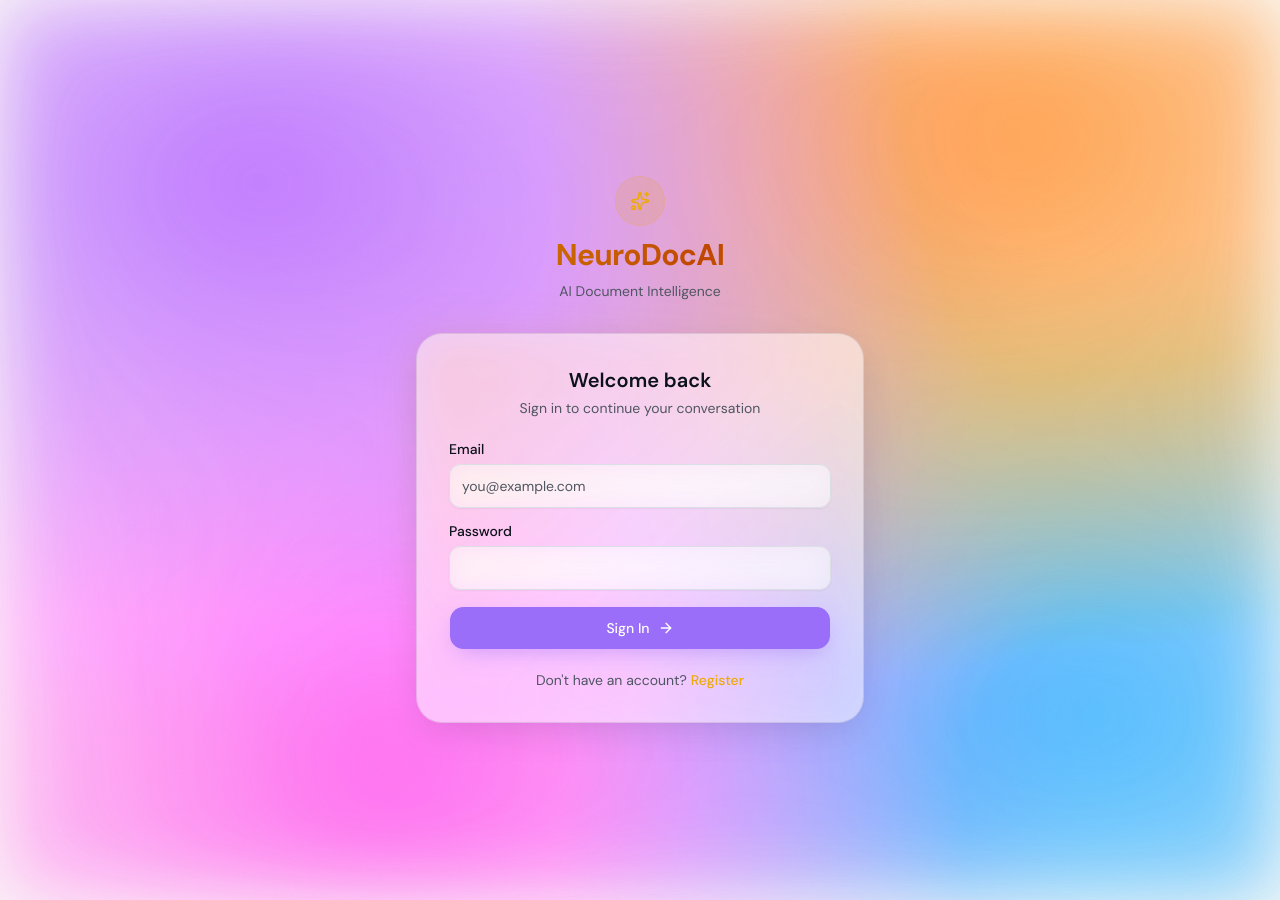
LoginPage › shows loading state during submission
The image size is (1280, 900).
Step 1. Type "test@example.com" into the field labelled "Email" → (640, 486), box [449,464,831,508]
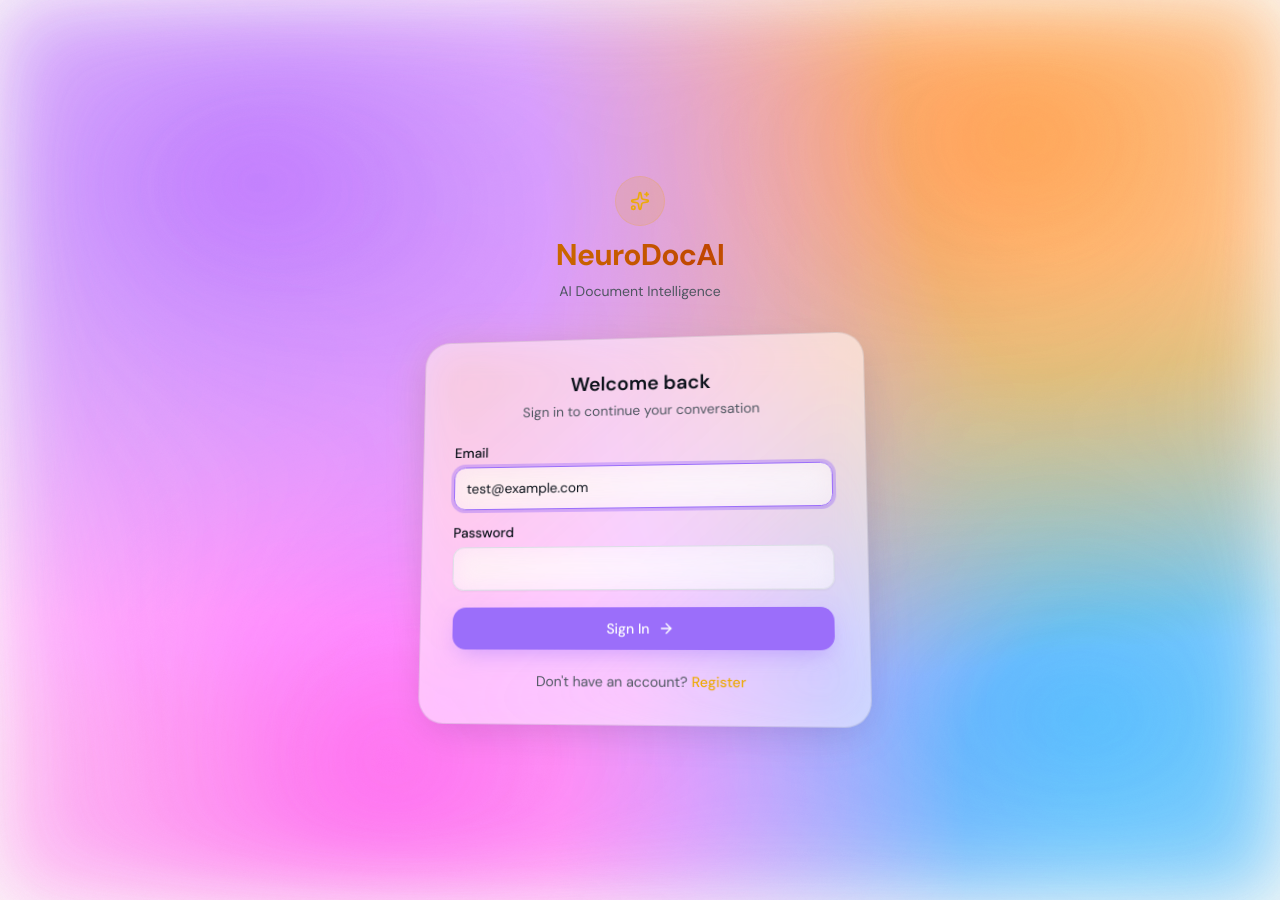
Step 2. Type "password123" into the password field labelled "Password" → (644, 568), box [452,544,835,591]
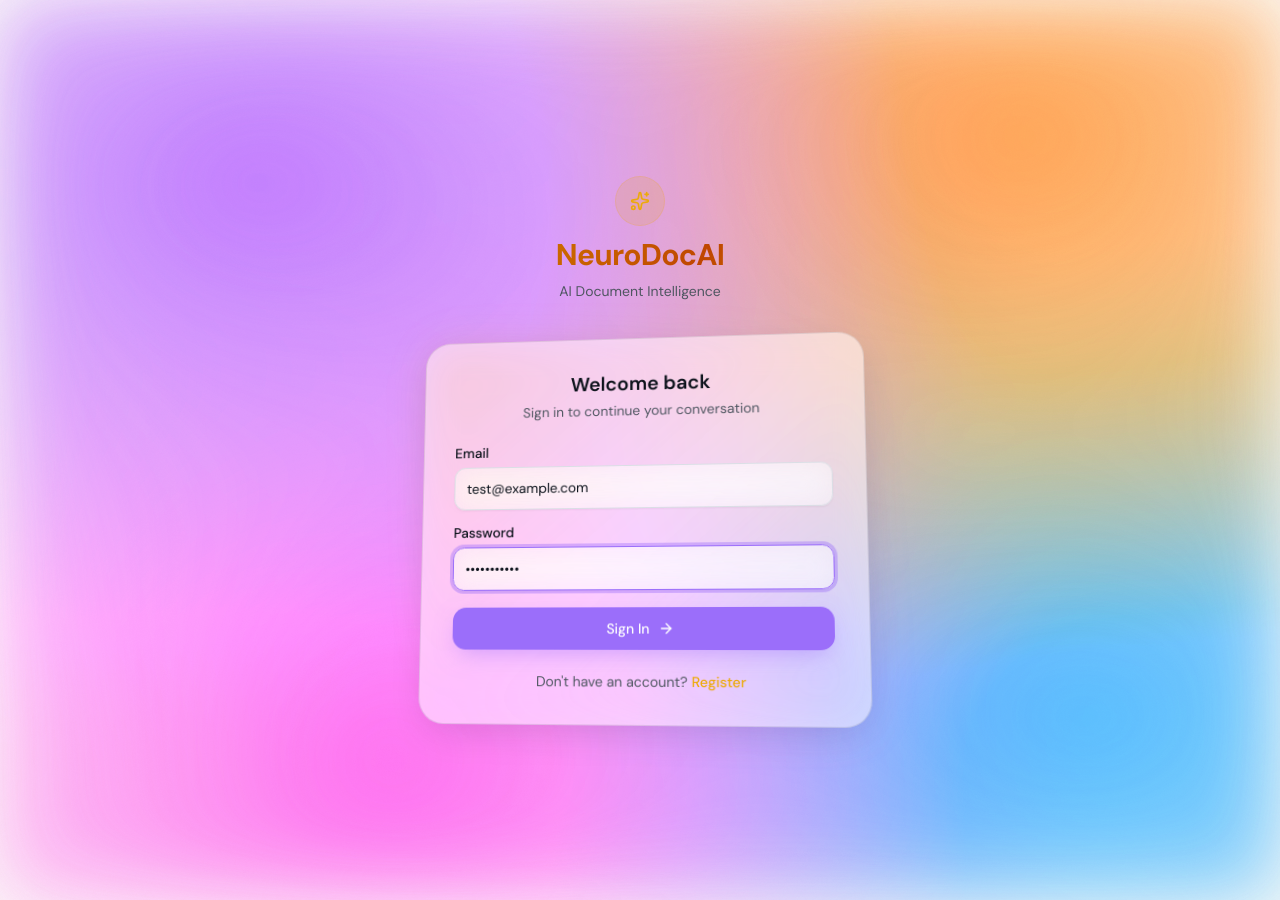
Step 3. Click the button "Sign In" → (644, 628), box [451,606,836,651]
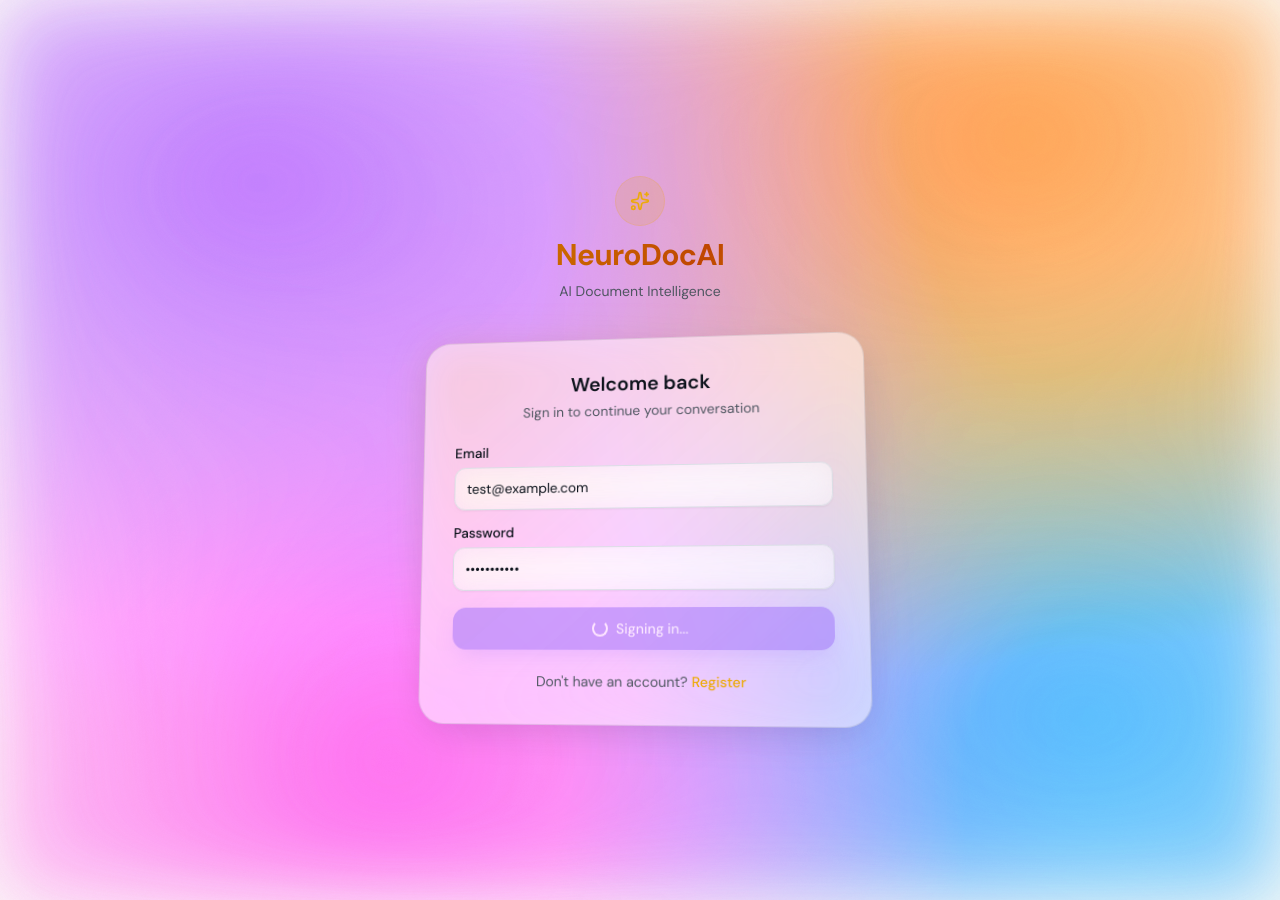
Expected: the text "Signing in..." is shown, [592,618,688,639]
